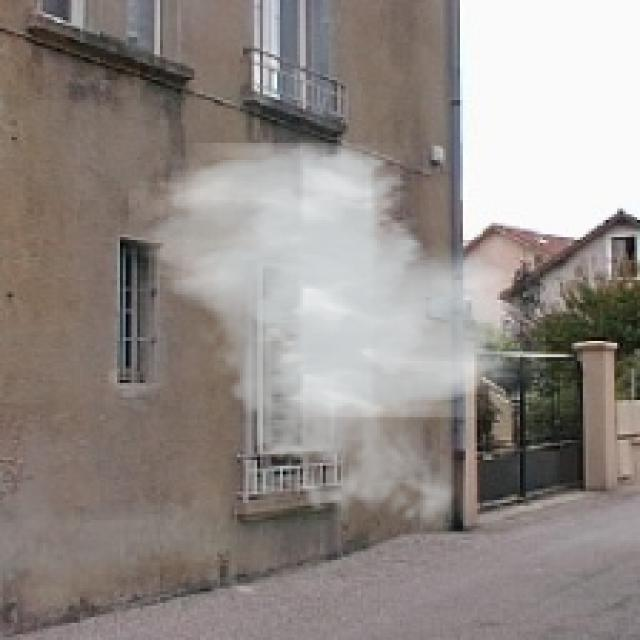smoke: (128, 143, 546, 534)
